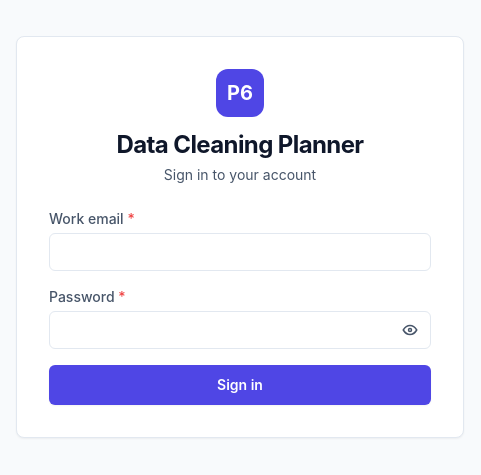
Test case: LoginPage validation › rejects an empty form with the canonical messages
The width and height of the screenshot is (481, 475).
Click the button "Sign in" at (240, 385), box left=49, top=365, right=431, bottom=405
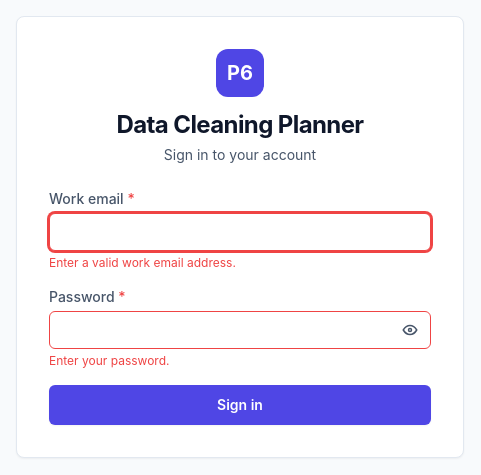
expect the text "Enter a valid work email address." is shown: met, box left=49, top=255, right=236, bottom=270
expect the text "Enter your password." is shown: met, box left=49, top=353, right=170, bottom=368
